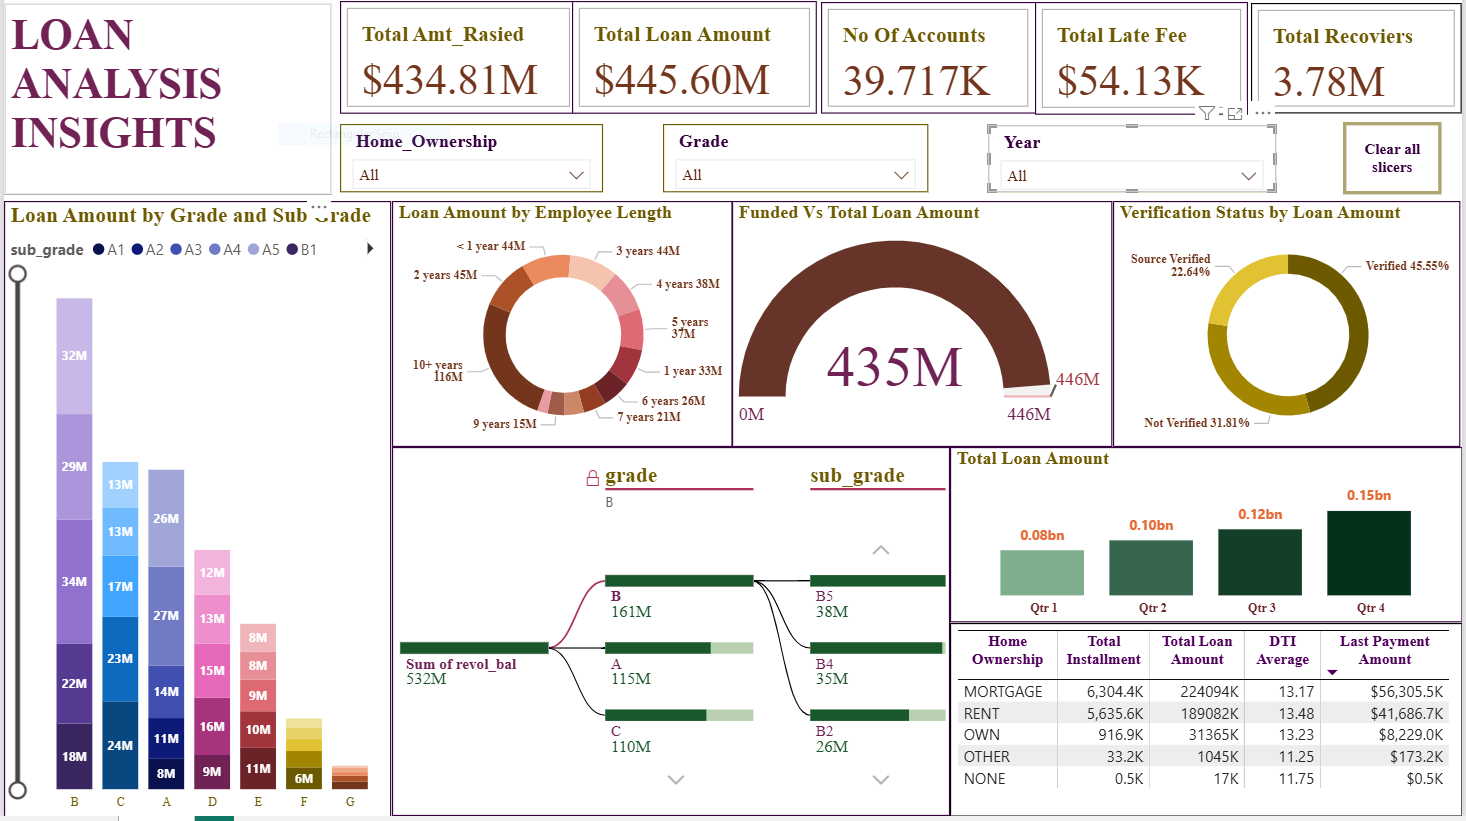

Layout of this report page (visuals, bound fields, positions):
{"tool":"powerbi","page":{"name":"Page 1","canvas":[1280,720],"ordinal":0},"visuals":[{"type":"cardVisual","fields":{"Data":["Sum(Finance_1.funded_amnt)"]},"box":[295,4.4,208.9,99],"z":0,"group":"g1"},{"type":"lineStackedColumnComboChart","title":"Total loan_Amnt by grade and sub_grade","fields":{"Category":["Finance_1.grade"],"Series":["Finance_1.sub_grade"],"Y":["Sum(Finance_1.loan_amnt)","select"]},"box":[288,179.1,365.3,202.8],"z":0},{"type":"cardVisual","fields":{"Data":["Sum(Finance_1.loan_amnt)"]},"box":[499.1,4.4,215.2,99.2],"z":1000,"group":"g1"},{"type":"decompositionTreeVisual","fields":{"ExplainBy":["Finance_1.grade","Finance_1.sub_grade"],"Analyze":["Sum(Finance_2.revol_bal)"]},"box":[0,389.9,533,320.5],"z":1000},{"type":"cardVisual","fields":{"Data":["CountNonNull(Finance_2.open_acc)"]},"box":[717.5,5.2,188.7,98.2],"z":2000,"group":"g1"},{"type":"tableEx","fields":{"Values":["Finance_1.home_ownership","Sum(Finance_1.installment)","Sum(Finance_1.loan_amnt)","Sum(Finance_1.dti)"]},"box":[828,550.5,452.2,159.8],"z":2000},{"type":"cardVisual","fields":{"Data":["Sum(Finance_2.total_rec_late_fee)"]},"box":[905.2,5.2,187.4,99],"z":3000,"group":"g1"},{"type":"clusteredColumnChart","fields":{"Category":["Finance_1.issue_d.Variation.Date Hierarchy.Year","Finance_1.issue_d.Variation.Date Hierarchy.Quarter","Finance_1.issue_d.Variation.Date Hierarchy.Month"],"Y":["Sum(Finance_1.loan_amnt)"]},"box":[828,389.9,452.2,156.3],"z":3000},{"type":"donutChart","title":" Total_pymnt by Verification_status","fields":{"Category":["Finance_1.verification_status"],"Y":["Sum(Finance_2.total_pymnt)"]},"box":[662.9,180,282.7,202],"z":4000},{"type":"donutChart","title":"Total loan_amnt by emp_length","fields":{"Category":["Finance_1.emp_length"],"Y":["Sum(Finance_1.loan_amnt)"]},"box":[0,179.1,279.2,202.8],"z":5000},{"type":"gauge","title":"Fund_Amt Rasied for loan & revol","fields":{"Y":["Sum(Finance_1.loan_amnt)"],"TargetValue":["Sum(Finance_1.funded_amnt)"],"MaxValue":["Sum(Finance_2.revol_bal)"]},"box":[540,389.9,282.7,156.3],"z":6000},{"type":"lineChart","title":"Funded_amnt by ownership","fields":{"Category":["Finance_1.home_ownership"],"Y":["Sum(Finance_1.funded_amnt)"]},"box":[953.6,180,326.6,202],"z":7000},{"type":"lineStackedColumnComboChart","title":" last_pymnt_amnt by ownership","fields":{"Category":["Finance_1.home_ownership"],"Y":["CountNonNull(Finance_2.last_pymnt_amnt)"]},"box":[540,550.5,282.7,159.8],"z":8000},{"type":"textbox","box":[0,6.2,288,167.8],"z":9000},{"type":"group","id":"g1","title":"Group 1","box":[295,4.4,985,99.8],"z":10000},{"type":"cardVisual","fields":{"Data":["Sum(Finance_2.recoveries)"]},"box":[1094.5,6,185.4,97.4],"z":11000,"group":"g1"},{"type":"slicer","fields":{"Values":["Finance_2.last_pymnt_d.Variation.Date Hierarchy.Year"]},"box":[863.9,113.1,252.6,59.2],"z":11000},{"type":"slicer","fields":{"Values":["Finance_1.home_ownership"]},"box":[295,112.2,231.4,60.1],"z":12000},{"type":"slicer","fields":{"Values":["Finance_1.grade"]},"box":[578.6,112.2,233.2,60.1],"z":13000},{"type":"actionButton","box":[1175.8,110.4,86.6,63.6],"z":14000}]}

Visuals, with their boxes in screenshot pixels (x1, y1, x2, y2), scaled from the page's 1280x720 canvas onto the 1466x821 screenshot:
cardVisual - Sum(Finance_1.funded_amnt): l=338, t=5, r=577, b=118
"Total loan_Amnt by grade and sub_grade" lineStackedColumnComboChart: l=330, t=204, r=748, b=435
cardVisual - Sum(Finance_1.loan_amnt): l=572, t=5, r=818, b=118
decompositionTreeVisual - Finance_1.grade x Finance_1.sub_grade: l=0, t=445, r=610, b=810
cardVisual - CountNonNull(Finance_2.open_acc): l=822, t=6, r=1038, b=118
tableEx - Finance_1.home_ownership x Sum(Finance_1.installment): l=948, t=628, r=1465, b=810
cardVisual - Sum(Finance_2.total_rec_late_fee): l=1037, t=6, r=1251, b=119
clusteredColumnChart - Finance_1.issue_d.Variation.Date Hierarchy.Year x Finance_1.issue_d.Variation.Date Hierarchy.Quarter: l=948, t=445, r=1465, b=623
" Total_pymnt by Verification_status" donutChart: l=759, t=205, r=1083, b=436
"Total loan_amnt by emp_length" donutChart: l=0, t=204, r=320, b=435
"Fund_Amt Rasied for loan & revol" gauge: l=618, t=445, r=942, b=623
"Funded_amnt by ownership" lineChart: l=1092, t=205, r=1465, b=436
" last_pymnt_amnt by ownership" lineStackedColumnComboChart: l=618, t=628, r=942, b=810
textbox: l=0, t=7, r=330, b=198
"Group 1" group: l=338, t=5, r=1465, b=119
cardVisual - Sum(Finance_2.recoveries): l=1254, t=7, r=1465, b=118
slicer - Finance_2.last_pymnt_d.Variation.Date Hierarchy.Year: l=989, t=129, r=1279, b=196
slicer - Finance_1.home_ownership: l=338, t=128, r=603, b=196
slicer - Finance_1.grade: l=663, t=128, r=930, b=196
actionButton: l=1347, t=126, r=1446, b=198
